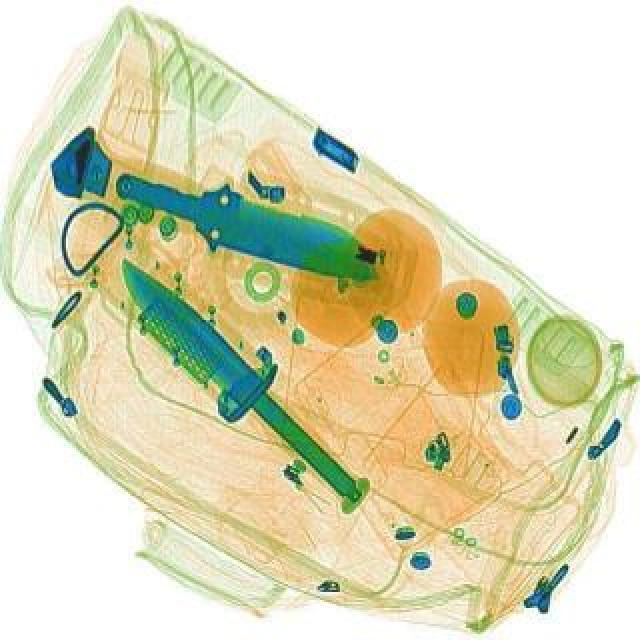knife: (100, 246, 372, 514), (106, 156, 394, 292)
